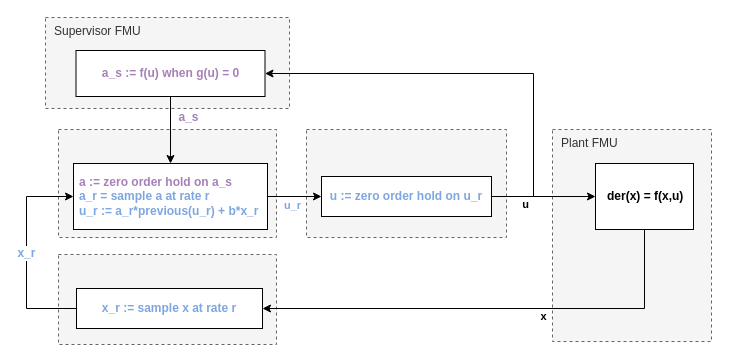
Image size: 729x362. Some labels were removed from this diagram. Here are the shapes that lost their labels. From the top down, the box of each, then its label:
(58, 128, 276, 238): Ctrl FMU
(306, 128, 506, 238): Actuation FMU
(58, 254, 276, 344): Sensor FMU
